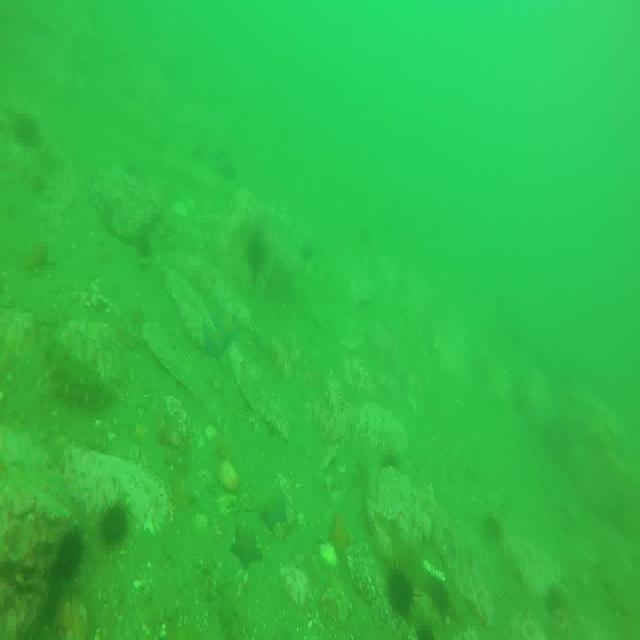echinus: (97, 502, 135, 553), (50, 529, 81, 587), (388, 566, 415, 607), (428, 575, 448, 617), (247, 237, 265, 266), (18, 118, 37, 143), (134, 233, 152, 257), (416, 622, 436, 640), (381, 448, 395, 472)
holothurian: (43, 343, 111, 413)
scallop: (320, 534, 338, 572)
starfish: (229, 524, 261, 565), (259, 494, 285, 528)
